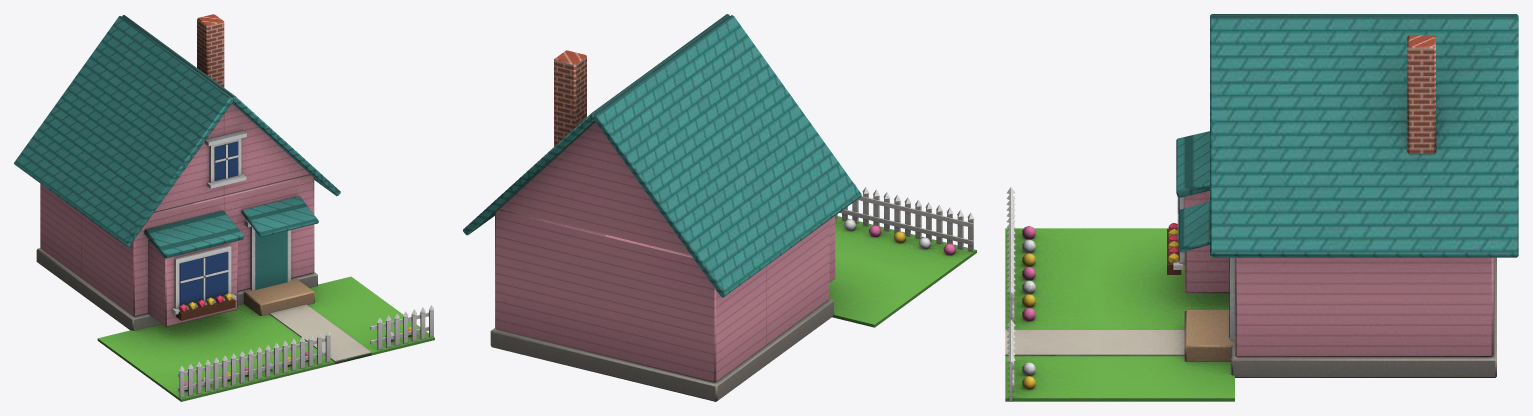
File: cabana_rosa.glb
3 renders of one model, left to right at view 1: azimuth 30°, elevation 25°; view 2: azimuth 150°, elevation 25°; view 3: azimuth 270°, elevation 25°, orthographic. The views are drawn at different scales.
Parts seen in each view (by area): view 1: cabana_rosa; view 2: cabana_rosa; view 3: cabana_rosa.
Part boxes in pixels (x1,y1,x2,y2): cabana_rosa: [14, 14, 434, 401]; cabana_rosa: [463, 14, 976, 401]; cabana_rosa: [1005, 14, 1518, 401].
Bounding box in the file's own units: 5.64 × 4.8 × 7.15.
1 material, 1 textured.
